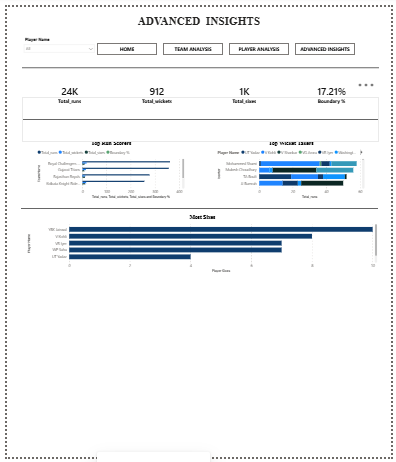

The page's visual inventory and layout, read from the dashboard file:
{"tool":"powerbi","page":{"name":"Advanced Insights","canvas":[1280,1500],"ordinal":3},"visuals":[{"type":"textbox","box":[0,18.5,1280,57.1],"z":0},{"type":"cardVisual","fields":{"Data":["Measure_Table.Total_runs","Measure_Table.Total_wickets","Measure_Table.Total_sixes","Measure_Table.Boundary %"]},"box":[49.2,240.7,1190.7,100.3],"z":1000},{"type":"clusteredBarChart","title":"Top Run Scorers","fields":{"Y":["Measure_Table.Total_runs","Measure_Table.Total_wickets","Measure_Table.Total_sixes","Measure_Table.Boundary %"],"Category":["Dim_Team.Team Name"]},"box":[98.1,442,500,200],"z":2000},{"type":"clusteredBarChart","title":"Most Sixes","fields":{"Category":["Dim_Player.Player Name"],"Y":["Measure_Table.Player Sixes"]},"box":[62.5,691.6,1175.5,200.3],"z":3000},{"type":"barChart","title":"Top Wicket Takers","fields":{"Y":["Measure_Table.Total_runs"],"Category":["IPL_Data.bowler"],"Series":["Dim_Player.Player Name"]},"box":[698.1,442,500,200],"z":4000},{"type":"shape","box":[49.6,163.4,1190,78.3],"z":5000},{"type":"shape","box":[49.6,300,1190,150],"z":6000},{"type":"shape","box":[48.1,596.3,1190,150],"z":7000},{"type":"slicer","fields":{"Values":["Dim_Player.Player Name"]},"box":[45.4,96.4,255.1,82.2],"z":8000},{"type":"actionButton","box":[300,120,200,40.1],"z":9000},{"type":"actionButton","box":[960,120,200,40.1],"z":10000},{"type":"actionButton","box":[740,120,200,40.1],"z":11000},{"type":"actionButton","box":[520,120,200,40.1],"z":12000}]}

Visuals, with their boxes in screenshot pixels (x1, y1, x2, y2), scaled from the page's 1280x1500 canvas onto the 396x462 screenshot:
textbox: select_region(0, 6, 395, 23)
cardVisual - Measure_Table.Total_runs x Measure_Table.Total_wickets: select_region(15, 74, 384, 105)
"Top Run Scorers" clusteredBarChart: select_region(30, 136, 185, 198)
"Most Sixes" clusteredBarChart: select_region(19, 213, 383, 275)
"Top Wicket Takers" barChart: select_region(216, 136, 371, 198)
shape: select_region(15, 50, 384, 74)
shape: select_region(15, 92, 384, 139)
shape: select_region(15, 184, 383, 230)
slicer - Dim_Player.Player Name: select_region(14, 30, 93, 55)
actionButton: select_region(93, 37, 155, 49)
actionButton: select_region(297, 37, 359, 49)
actionButton: select_region(229, 37, 291, 49)
actionButton: select_region(161, 37, 223, 49)
